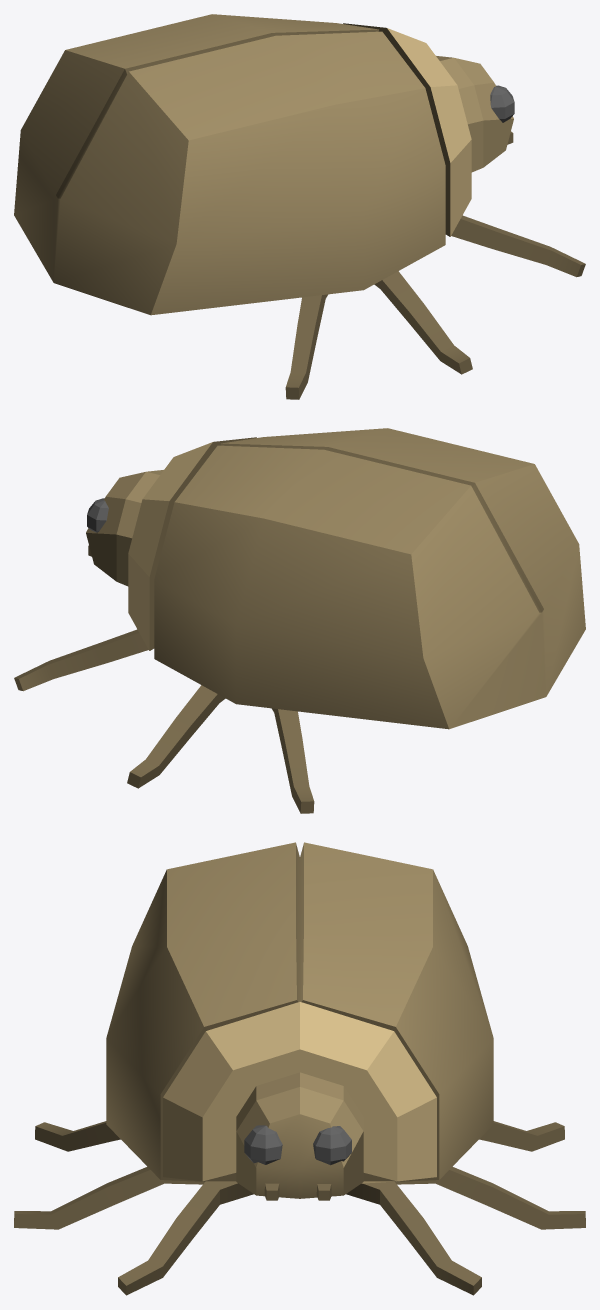
Rendered from Bug.fbx.
3 renders of one model, top to bottom at view 1: azimuth 30°, elevation 25°; view 2: azimuth 150°, elevation 25°; view 3: azimuth 270°, elevation 25°, orthographic. The views are drawn at different scales.
Visible parts, largest first — view 1: pCube8; view 2: pCube8; view 3: pCube8.
Boxes of the visible parts, x1=… form: pCube8: x1=14, y1=14, x2=585, y2=399; pCube8: x1=14, y1=428, x2=585, y2=813; pCube8: x1=14, y1=842, x2=585, y2=1295.
Bounding box in the file's own units: 1.74 × 0.9491 × 1.77.
